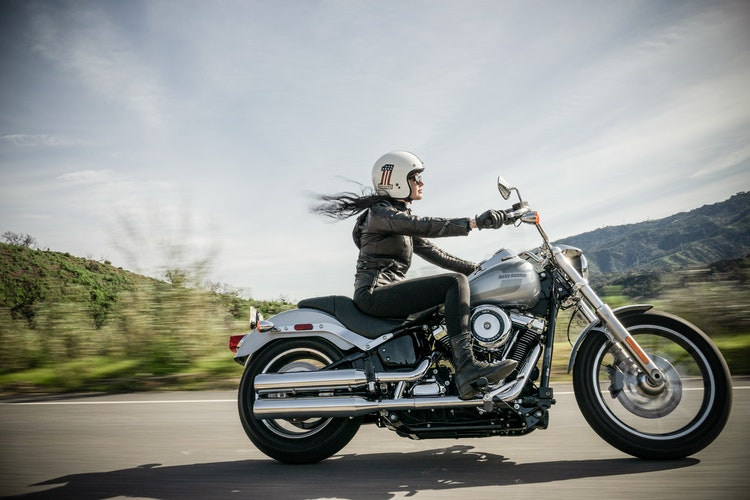helmet: (367, 151, 426, 195)
